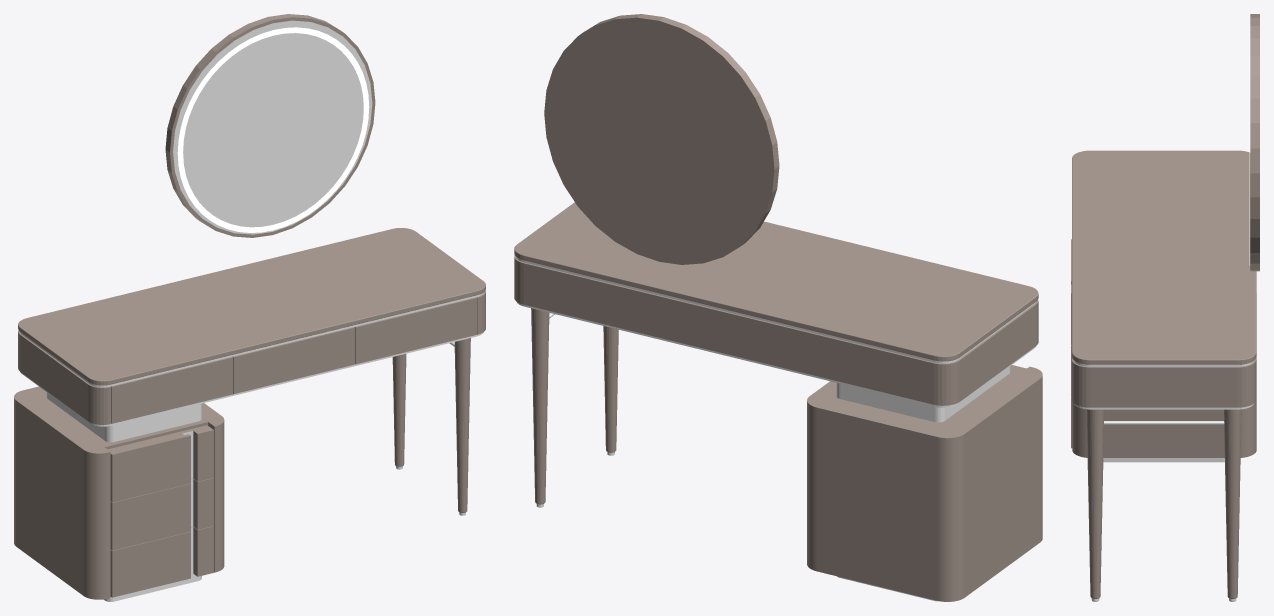
File: mejarias.glb
3 renders of one model, left to right at view 1: azimuth 30°, elevation 25°; view 2: azimuth 150°, elevation 25°; view 3: azimuth 270°, elevation 25°, orthographic. The views are drawn at different scales.
Visible parts, largest first — view 1: 3DGeom-4, Cylinder, lemari, 3DGeom-6, laci1, laci2, laci3, 3DGeom-21, 3DGeom-8, 3DGeom-13, 3DGeom-10, 3DGeom-5 (+1 smaller); view 2: Cylinder, lemari, 3DGeom-4, 3DGeom-6, 3DGeom-10, 3DGeom-13, 3DGeom-8, 3DGeom-5, 3DGeom-7; view 3: 3DGeom-4, 3DGeom-6, lemari, 3DGeom-8, 3DGeom-10, Cylinder, 3DGeom-14, 3DGeom-5, 3DGeom-7, 3DGeom-12.
Part boxes in pixels (x1,y1,x2,y2): 3DGeom-4: (18,228,485,385); Cylinder: (165,14,375,237); lemari: (14,386,224,599); 3DGeom-6: (18,290,485,424); laci1: (107,425,213,502); laci2: (110,478,213,550); laci3: (110,526,213,597); 3DGeom-21: (177,27,369,232); 3DGeom-8: (454,338,470,512); 3DGeom-13: (46,392,201,442); 3DGeom-10: (392,354,406,466); 3DGeom-5: (20,292,483,387); Cylinder: (544,14,779,264); lemari: (807,366,1042,601); 3DGeom-4: (514,202,1038,361); 3DGeom-6: (514,255,1038,405); 3DGeom-10: (531,308,549,504); 3DGeom-13: (836,366,1010,422); 3DGeom-8: (603,326,618,452); 3DGeom-5: (516,257,1036,363); 3DGeom-7: (516,301,1036,407); 3DGeom-4: (1072,150,1256,364); 3DGeom-6: (1072,357,1256,407); lemari: (1072,271,1256,457); 3DGeom-8: (1086,409,1104,598); 3DGeom-10: (1224,409,1241,598); Cylinder: (1250,14,1259,271); 3DGeom-14: (1103,458,1224,462); 3DGeom-5: (1074,360,1253,366); 3DGeom-7: (1074,403,1253,409); 3DGeom-12: (1104,421,1224,424).
Size of the model in its own units: 1.36 by 1.53 by 0.5126.
